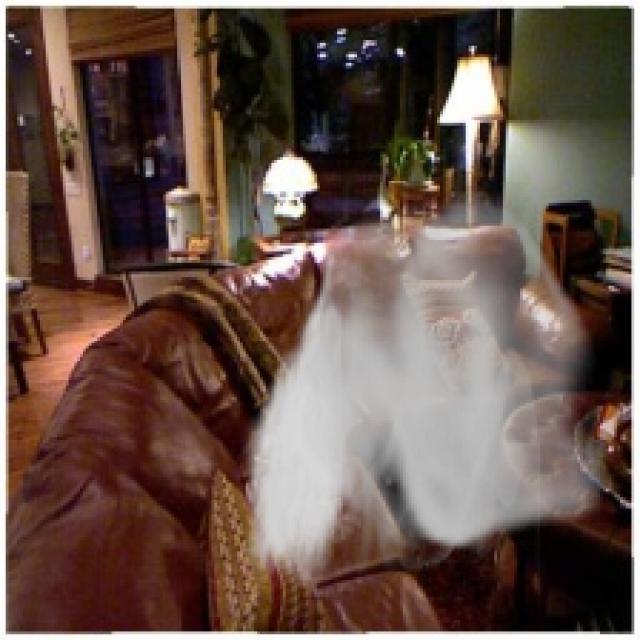smoke: (240, 183, 603, 597)
